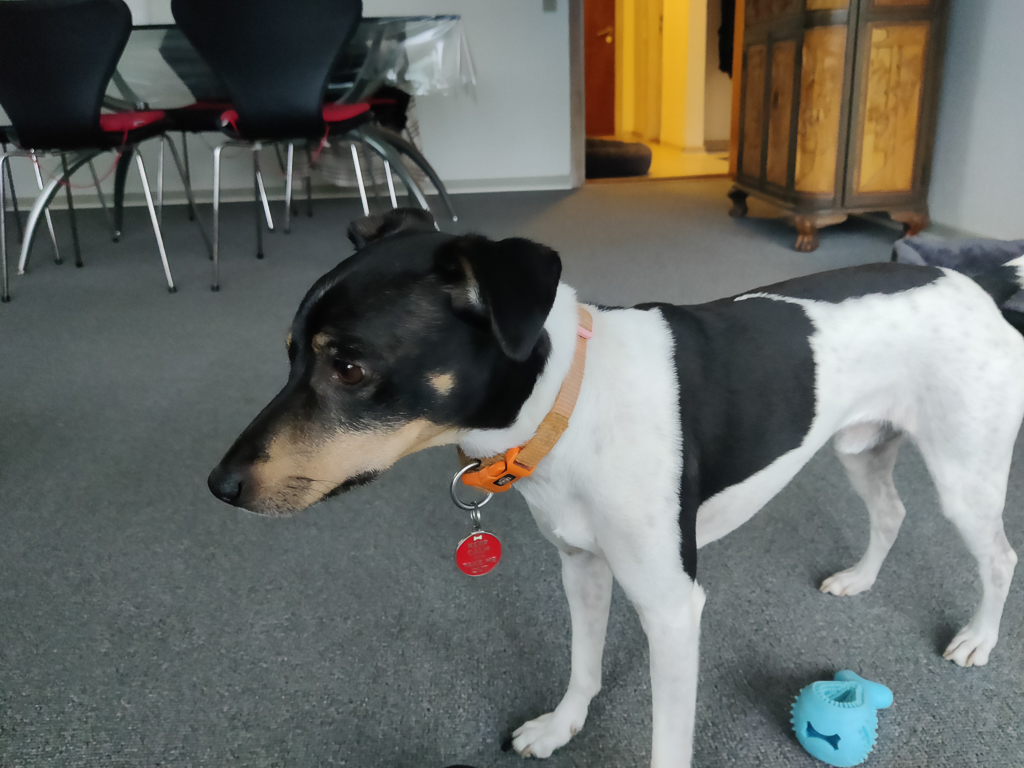Dog: (189, 179, 1024, 768)
